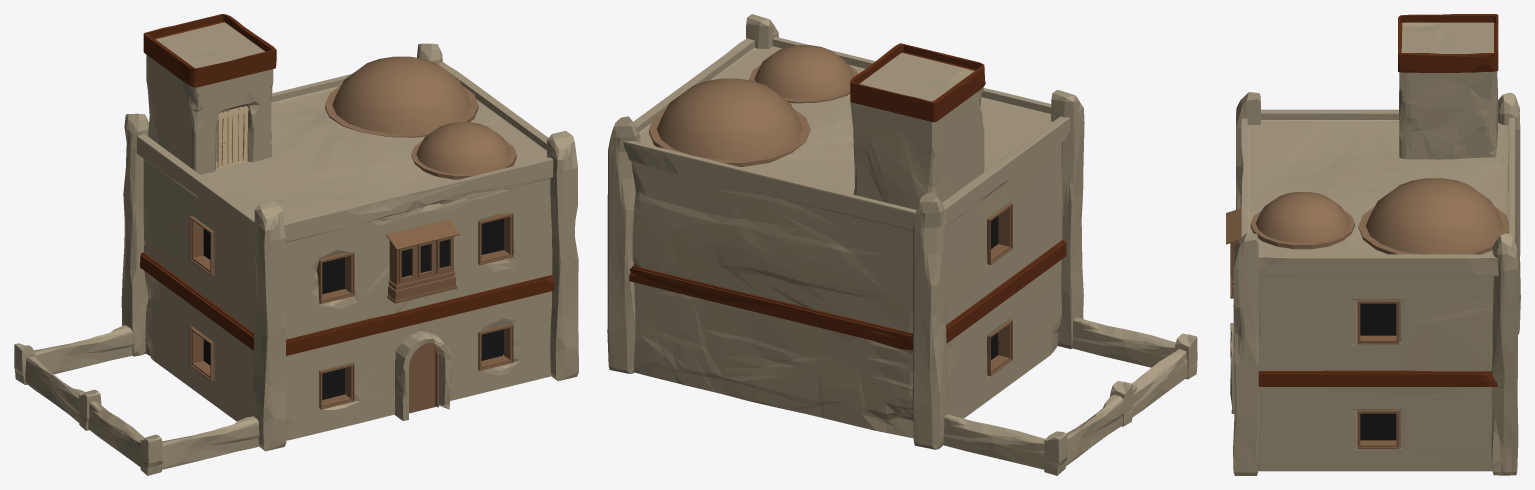
File: SM_house_sandstone_arabian_02.fbx
3 renders of one model, left to right at view 1: azimuth 30°, elevation 25°; view 2: azimuth 150°, elevation 25°; view 3: azimuth 270°, elevation 25°, orthographic. The views are drawn at different scales.
Visible parts, largest first — view 1: Object209; view 2: Object209; view 3: Object209.
Boxes of the visible parts, x1,y1,x2,y2 form: Object209: [14, 14, 578, 475]; Object209: [607, 14, 1197, 475]; Object209: [1226, 14, 1520, 475].
Size of the model in its own units: 587 by 355 by 423.
